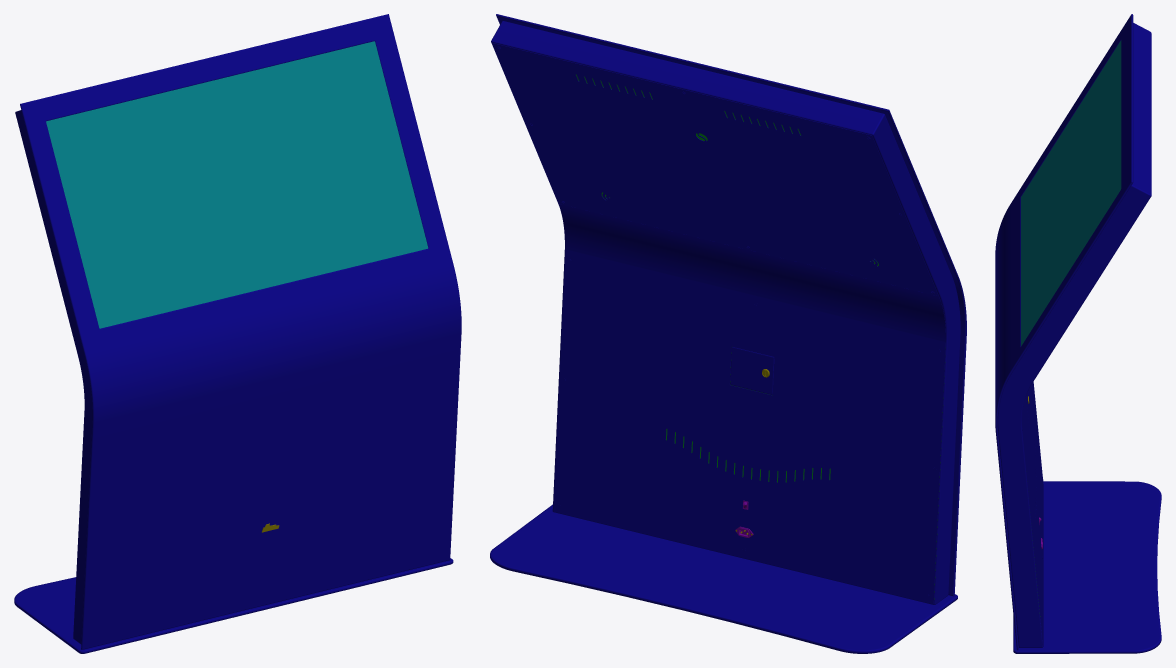
3 views of the same model, side by side, from view 1: azimuth 30°, elevation 25°; view 2: azimuth 150°, elevation 25°; view 3: azimuth 270°, elevation 25° (orthographic). The views are drawn at different scales.
Parts seen in each view (by area): view 1: SX_43_LOW; view 2: SX_43_LOW; view 3: SX_43_LOW.
Boxes of the visible parts, <box> form: SX_43_LOW: <box>14,14,461,653</box>; SX_43_LOW: <box>490,14,966,653</box>; SX_43_LOW: <box>995,14,1161,653</box>.
Size of the model in its own units: 1076 by 1385 by 443.
